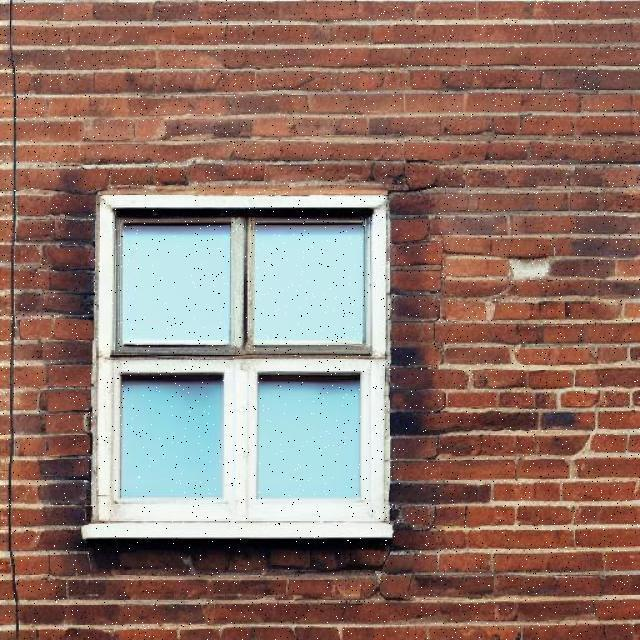window: (94, 194, 390, 536)
